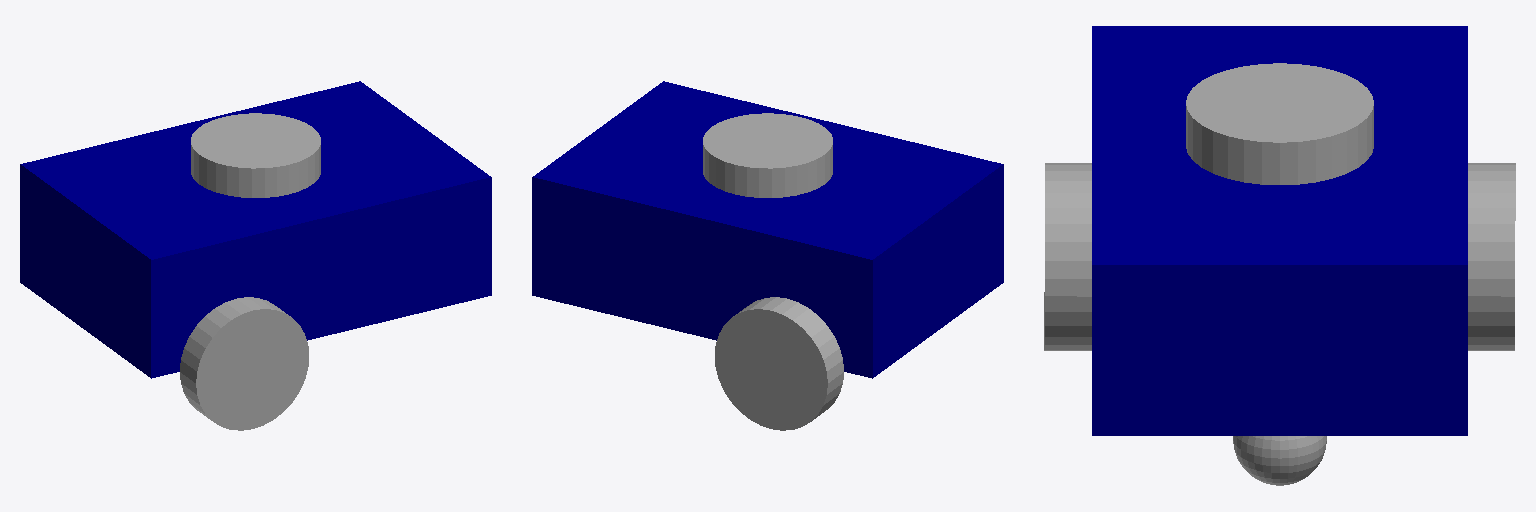
robot.urdf — my_robot:
<?xml version = "1.0"?>
<!-- this is the xml file with urdf extension -->
<!-- this file describes all element (rigid part) of robots -->
<robot name = "my_robot">
    <!-- add some color, a is stand for transparency, all values rgba is betweel 0 and 1 -->
    <material name = "grey">
        <!-- 0 0 0  is black. 1 1 1 is white. 0.7 0.7 0.7 is grey -->
        <color rgba = "0.7 0.7 0.7 1"/> 
    </material>
        
    <material name = "blue">
        <color rgba = "0 0 0.6 1"/>
    </material>

    <material name = "white">
        <color rgba = "1 1 1 1"/>
    </material>

    <link name = "base_footprint" />

    <!-- create base of robot, link is rigid part of robot -->
    <link name = "base_link">
        <visual>
            <geometry> <!-- to define the shape of the link -->
                <box size = "0.6 0.4 0.2" /> <!-- length, width, height in meters -->
            </geometry>
            <origin xyz = "0 0 0.1" rpy = "0 0 0" /> <!-- roll pitch yaw (xyz rotation) -->
            <!-- add color has to be outside geometry and inside visual -->
            <material name = "blue" />
        </visual>
    </link>

    <link name = "lidar_link">
        <visual>
            <geometry>
                <cylinder radius = "0.1" length = "0.05" />
            </geometry>
            <origin xyz = "0 0 0" rpy = "0 0 0" />
            <material name = "grey"/>
        </visual>
    </link>

    <link name = "left_wheel_link">
        <visual>
            <geometry>
                <cylinder radius = "0.1" length = "0.05"/>
            </geometry>
            <origin xyz = "0 0 0" rpy = "1.57 0 0 " /> <!-- rotate the wheel pi/2 in radian w.r.t x-axis -->
            <material name = "grey" />
        </visual>
    </link>

    <link name = "right_wheel_link">
        <visual>
            <geometry>
                <cylinder radius = "0.1" length = "0.05"/>
            </geometry>
            <origin xyz = "0 0 0" rpy = "1.57 0 0 " /> 
            <material name = "grey" />
        </visual>
    </link>

    <link name = "caster_wheel">
        <visual>
            <geometry>
                <sphere radius = "0.05" /> <!--diameter of shpere is the radius of cylinder-->
            </geometry>
            <origin xyz = "0 0 0" rpy = "0 0 0" />
            <material name = "grey" />
        </visual>
    </link>


    <joint name="base_joint" type="fixed">
        <parent link="base_footprint" />
        <child link = "base_link" />
        <origin xyz = "0 0 0.1" rpy = "0 0 0" />
    </joint>

    <!-- create relationship between link by using joint to create the transform (tf) of robot -->
    <joint name = "base_lider_joint" type = "fixed"> <!-- type is type of mouvement relation between links -->
        <parent link = "base_link" />
        <child link = "lidar_link" />
        <origin xyz = "0 0 0.225" rpy = "0 0 0" />
    </joint>

    <joint name = "base_left_wheel_joint" type = "continuous">
        <parent link = "base_link" />
        <child link = "left_wheel_link" />
        <origin xyz = "-0.15 0.225 0" rpy = "0 0 0" />
        <!-- since we used type cont. so we need to provide axis of rotation -->
        <axis xyz = "0 1 0" /> <!-- rotate around y-axis -->
    </joint>

    <joint name = "base_right_wheel_joint" type = "continuous">
        <parent link = "base_link" />
        <child link = "right_wheel_link" />
        <origin xyz = "-0.15 -0.225 0" rpy = "0 0 0" />
        <axis xyz = "0 1 0" /> <!-- rotate around y-axis -->
    </joint>

    <joint name = "base_caster_wheel_joint" type = "fixed"> <!-- use fixed cuz it is a passive rotation not active-->
        <parent link="base_link" />
        <child link = "caster_wheel" />
        <origin xyz = "0.2 0 -0.05" rpy = "0 0 0" /> <!--for fixed type we dun need axis-->
    </joint>

</robot>

--- What the picture shows (computed from the rendered views, not written in the file) ---
3 views of the same robot in one strip: view 1: azimuth 30°, elevation 25°; view 2: azimuth 150°, elevation 25°; view 3: azimuth 270°, elevation 25° (orthographic).
Robot: my_robot — 6 links, 5 joints (2 continuous, 3 fixed); root link base_footprint; default pose: all joints at 0.
Visible links, largest first — view 1: base_link, right_wheel_link, lidar_link; view 2: base_link, left_wheel_link, lidar_link; view 3: base_link, lidar_link, right_wheel_link, left_wheel_link, caster_wheel.
Boxes of the visible links, x1,y1,x2,y2 form: base_link: [20, 81, 491, 378]; right_wheel_link: [180, 297, 308, 430]; lidar_link: [191, 113, 320, 197]; base_link: [532, 81, 1003, 378]; left_wheel_link: [715, 297, 843, 430]; lidar_link: [703, 113, 832, 197]; base_link: [1092, 26, 1467, 435]; lidar_link: [1186, 63, 1373, 184]; right_wheel_link: [1044, 163, 1091, 350]; left_wheel_link: [1468, 163, 1515, 350]; caster_wheel: [1233, 436, 1326, 485].
Bounding box of the posed robot: 0.6 × 0.5002 × 0.35 m (x, y, z).
Geometry: primitives only (box / cylinder / sphere), no mesh files.